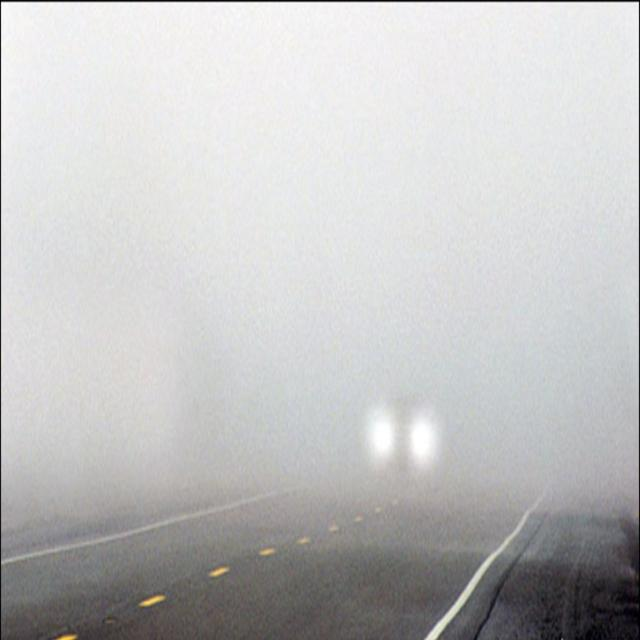car: (368, 374, 446, 475)
